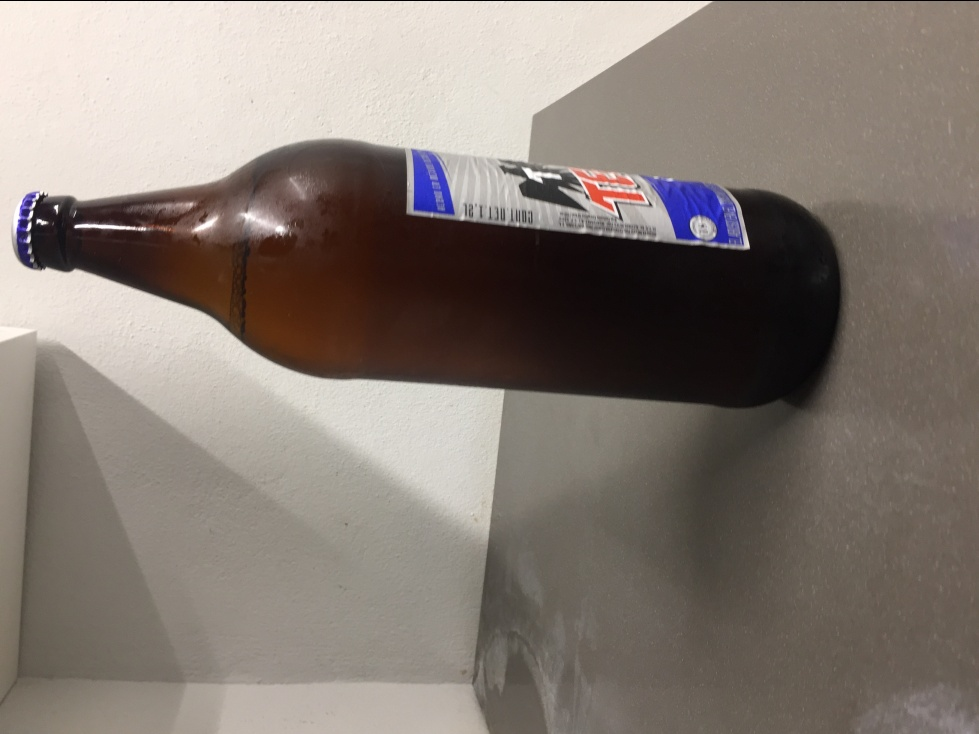tecateC: (14, 140, 842, 410)
